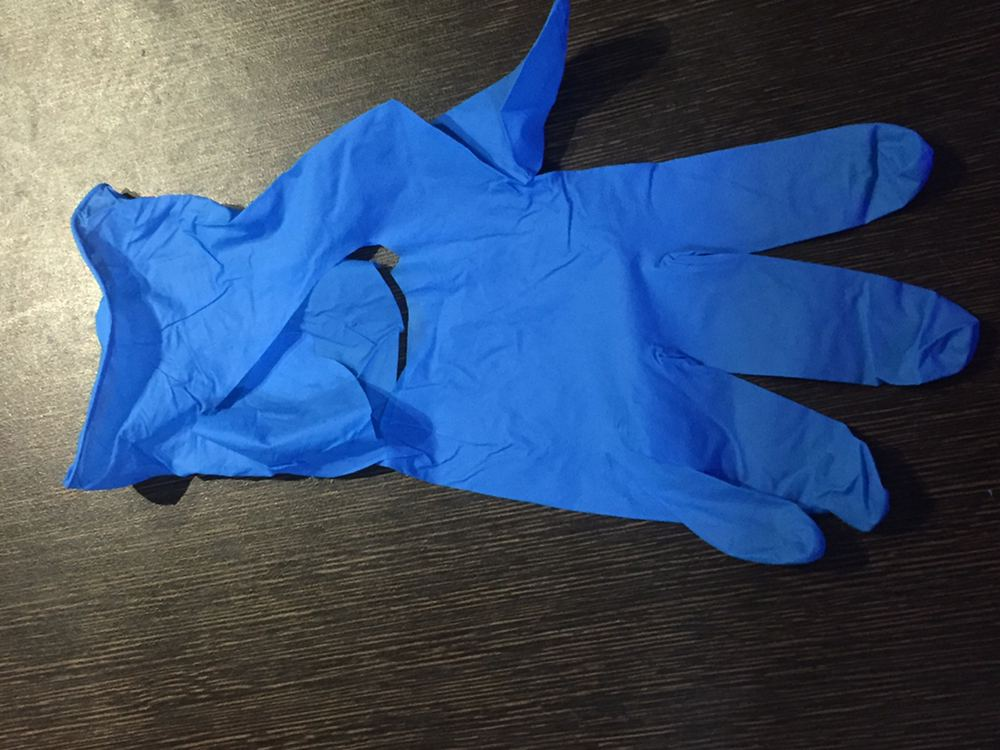defected: (24, 23, 987, 637)
